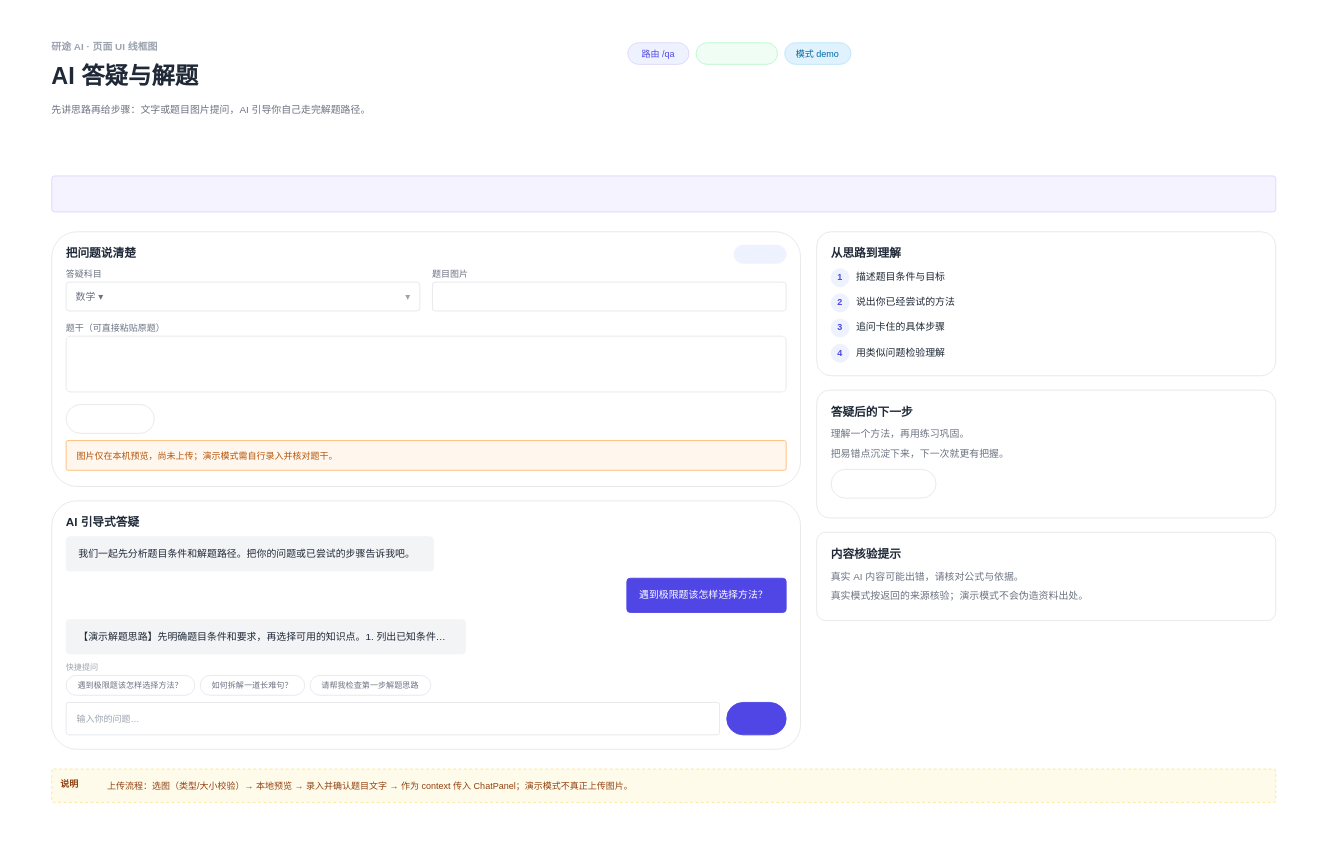
Image size: 1328x864. Some labels were removed from this diagram. Here are the shapes that lost their labels. From the top down, the centre of each, then its label:
At point 736,53: "角色 STUDENT".
At point 663,193: "ⓘ 当前为前端演示。示例院校、学习资料与 AI 回复均不代表真实业务结果；本地学习操作仅保存在本浏览器。".
At point 759,253: "思路优先".
At point 609,296: "⬆ 上传题目图片（JPG / PNG / WebP ≤ 10MB）".
At point 425,363: "输入题干后，AI 会先复述条件与目标，再给出可执行的解题路径。".
At point 109,418: "确认题目文字".
At point 883,483: "前往专项训练 →".
At point 756,718: "发送".
